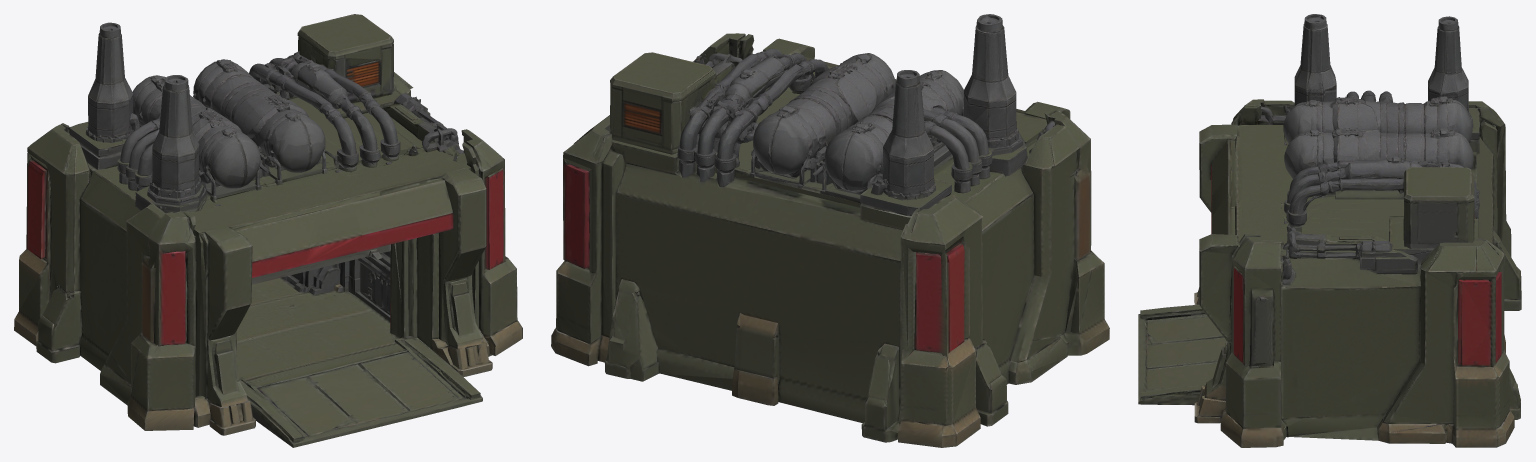
Rendered from construction-yard.glb.
The picture shows the model from 3 angles, left to right: view 1: azimuth 30°, elevation 25°; view 2: azimuth 150°, elevation 25°; view 3: azimuth 270°, elevation 25°; orthographic projection. The views are drawn at different scales.
Visible parts, largest first — view 1: mesh_node; view 2: mesh_node; view 3: mesh_node.
Boxes of the visible parts, x1,y1,x2,y2 form: mesh_node: [14, 14, 522, 447]; mesh_node: [551, 14, 1109, 447]; mesh_node: [1138, 14, 1521, 447].
Bounding box in the file's own units: 1.9 × 1.47 × 1.77.
1 material, 1 textured.
